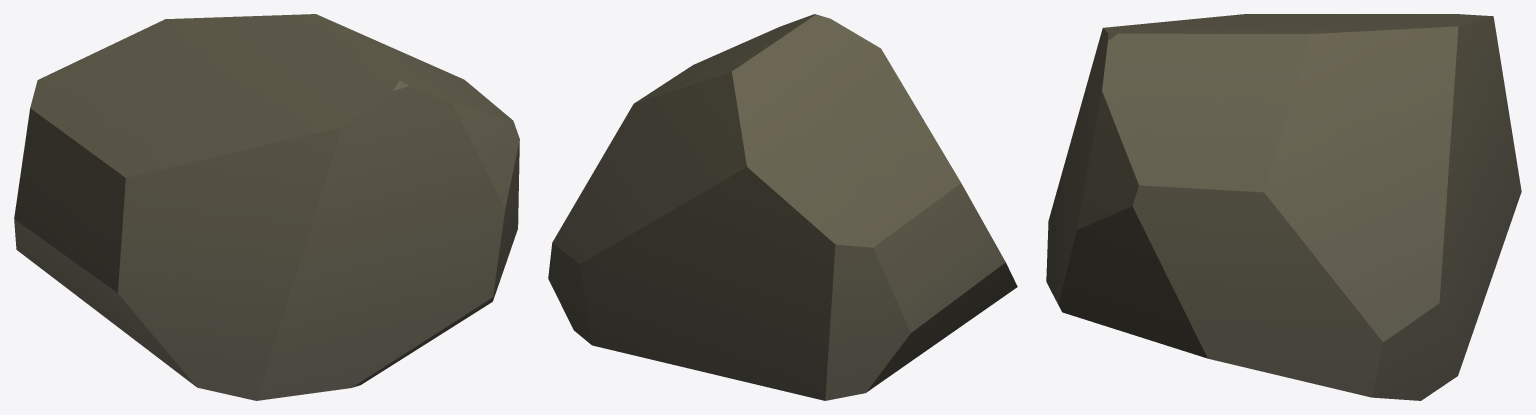
File: RockMiddle.fbx
The picture shows the model from 3 angles, left to right: view 1: azimuth 30°, elevation 25°; view 2: azimuth 150°, elevation 25°; view 3: azimuth 270°, elevation 25°; orthographic projection. The views are drawn at different scales.
Visible parts, largest first — view 1: RockMiddle; view 2: RockMiddle; view 3: RockMiddle.
Boxes of the visible parts, <box> form: RockMiddle: <box>14,14,519,400</box>; RockMiddle: <box>548,14,1017,400</box>; RockMiddle: <box>1046,14,1521,400</box>.
Size of the model in its own units: 75.94 by 47.32 by 67.58.
